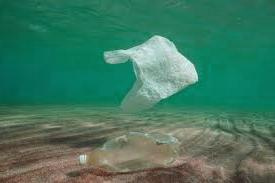Plastic: (69, 126, 180, 181)
Trash: (88, 26, 212, 119)
